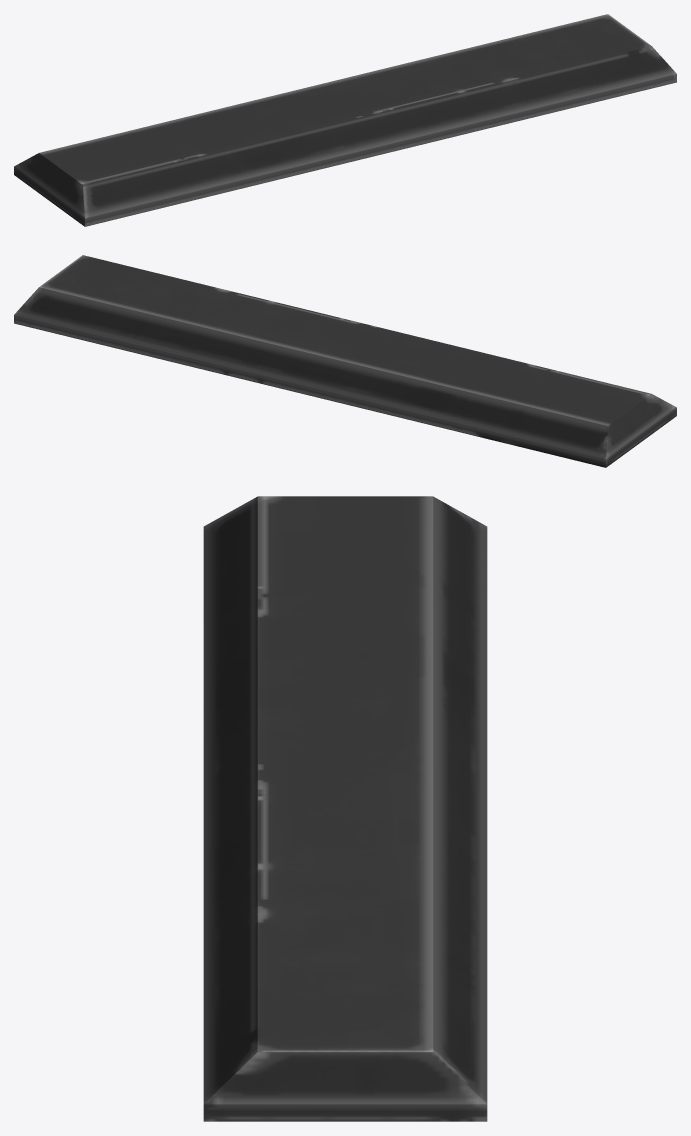
File: RE_CellLighting00.FBX
3 renders of one model, top to bottom at view 1: azimuth 30°, elevation 25°; view 2: azimuth 150°, elevation 25°; view 3: azimuth 270°, elevation 25°, orthographic. The views are drawn at different scales.
Parts seen in each view (by area): view 1: RE_CellLighting00; view 2: RE_CellLighting00; view 3: RE_CellLighting00.
Part boxes in pixels (x1,y1,x2,y2): RE_CellLighting00: (14,14,676,226); RE_CellLighting00: (14,255,676,467); RE_CellLighting00: (203,496,487,1121).
Size of the model in its own units: 90.72 by 4.28 by 18.84.
3 materials, 3 textured.
